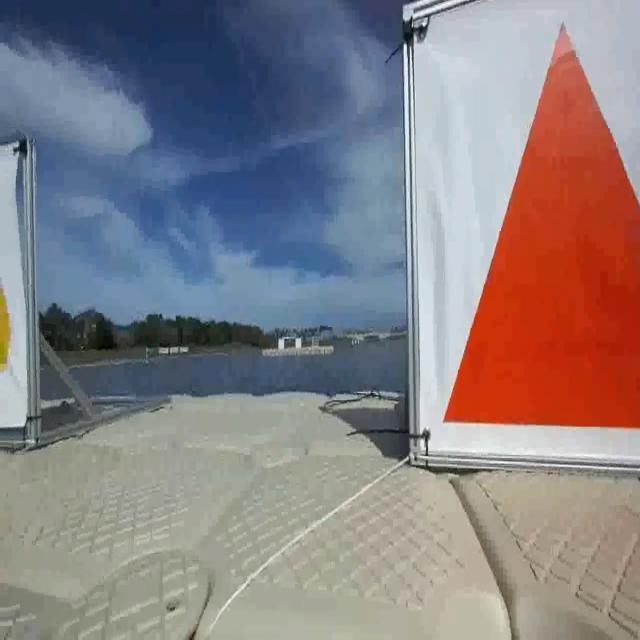red-dot: (401, 11, 640, 480)
